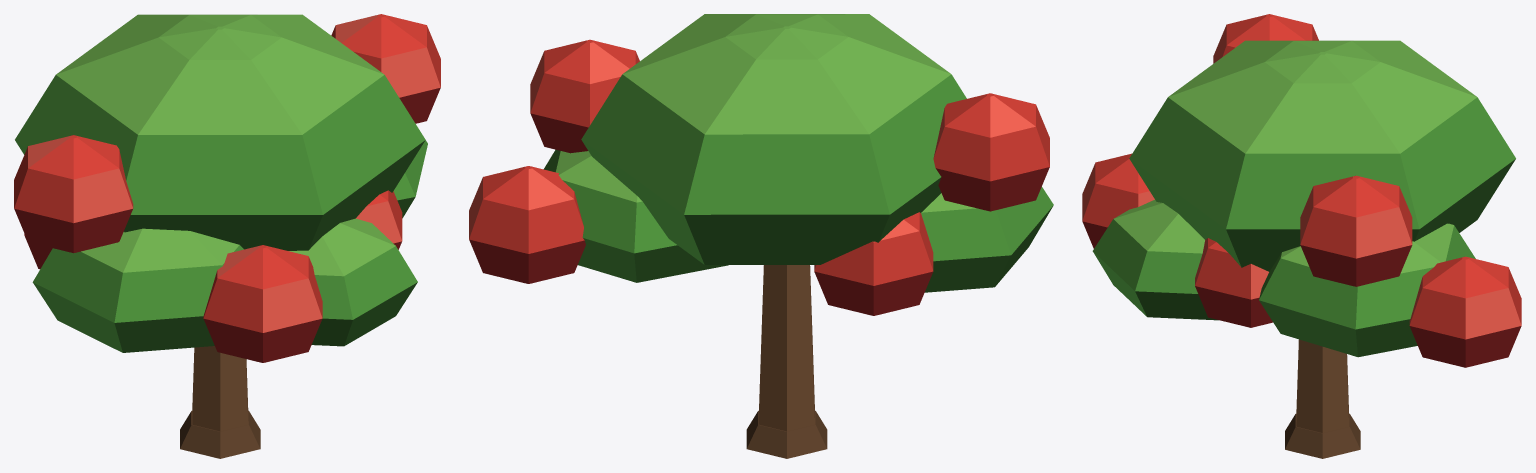
File: apple-4.glb
3 renders of one model, left to right at view 1: azimuth 30°, elevation 25°; view 2: azimuth 150°, elevation 25°; view 3: azimuth 270°, elevation 25°, orthographic. The views are drawn at different scales.
Parts seen in each view (by area): view 1: apple-4; view 2: apple-4; view 3: apple-4.
Boxes of the visible parts, x1,y1,x2,y2 form: apple-4: [14, 14, 440, 458]; apple-4: [469, 14, 1053, 458]; apple-4: [1082, 14, 1521, 458].
Size of the model in its own units: 0.6954 by 0.574 by 0.5903.
1 material, 1 textured.
